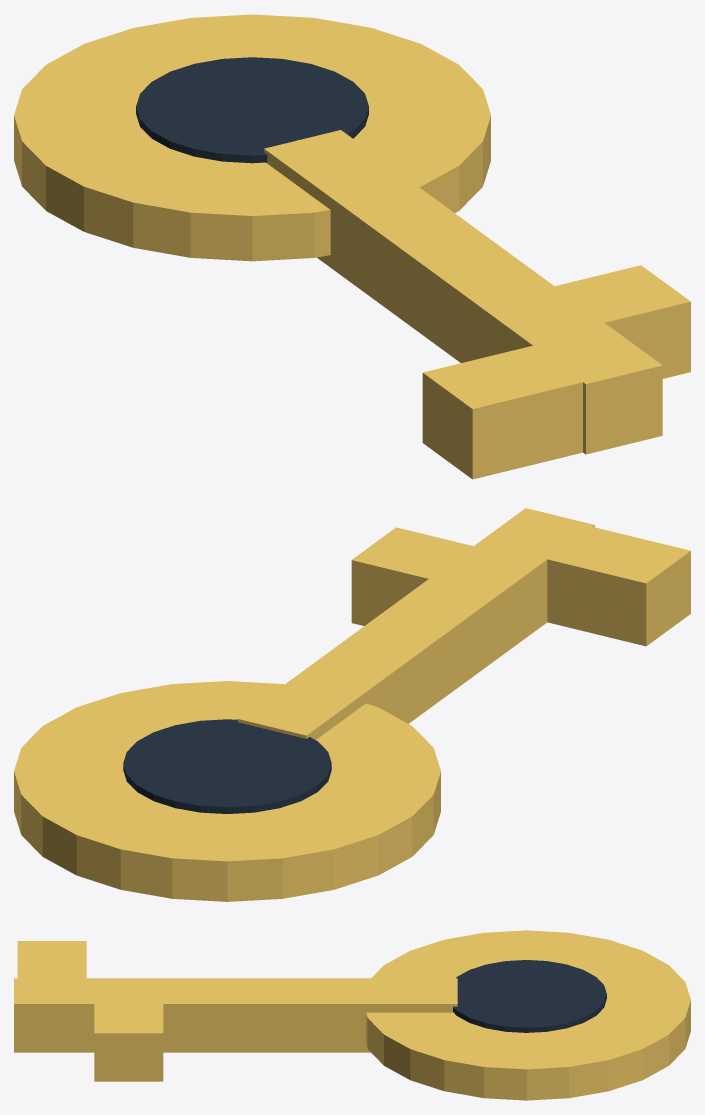
File: golden_key.glb
3 renders of one model, top to bottom at view 1: azimuth 30°, elevation 25°; view 2: azimuth 150°, elevation 25°; view 3: azimuth 270°, elevation 25°, orthographic. The views are drawn at different scales.
Visible parts, largest first — view 1: key bow outer, key shaft, key bow hole, key tooth left, key tooth right; view 2: key bow outer, key shaft, key bow hole, key tooth left, key tooth right; view 3: key bow outer, key shaft, key bow hole, key tooth right, key tooth left.
Part boxes in pixels (x1,y1,x2,y2): key bow outer: (14, 14, 490, 261); key shaft: (264, 130, 662, 454); key bow hole: (136, 57, 368, 163); key tooth left: (422, 338, 615, 479); key tooth right: (536, 265, 690, 378); key bow outer: (14, 681, 440, 901); key shaft: (237, 508, 594, 739); key bow hole: (123, 719, 331, 813); key tooth left: (520, 525, 690, 646); key tooth right: (351, 527, 487, 625); key bow outer: (366, 930, 690, 1100); key shaft: (14, 978, 457, 1052); key bow hole: (453, 960, 606, 1032); key tooth right: (94, 997, 163, 1081); key tooth left: (17, 941, 86, 989).
Size of the model in its own units: 0.86 by 0.14 by 1.77.
